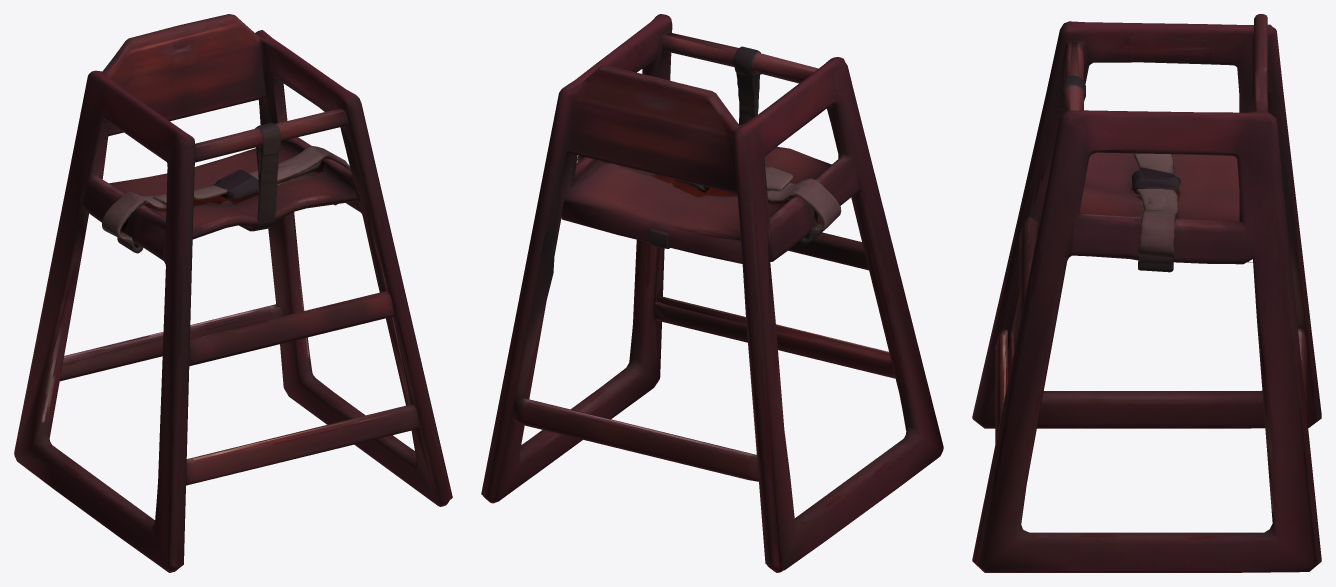
The model's file is high_chair_32InchesTall_0222184311_texture.glb.
3 views of the same model, side by side, from view 1: azimuth 30°, elevation 25°; view 2: azimuth 150°, elevation 25°; view 3: azimuth 270°, elevation 25° (orthographic). The views are drawn at different scales.
Parts seen in each view (by area): view 1: Mesh_0; view 2: Mesh_0; view 3: Mesh_0.
Boxes of the visible parts, <box> form: Mesh_0: <box>14,14,452,572</box>; Mesh_0: <box>481,14,943,572</box>; Mesh_0: <box>972,14,1321,572</box>.
Bounding box in the file's own units: 0.5758 × 0.8128 × 0.5591.
1 material, 1 textured.
